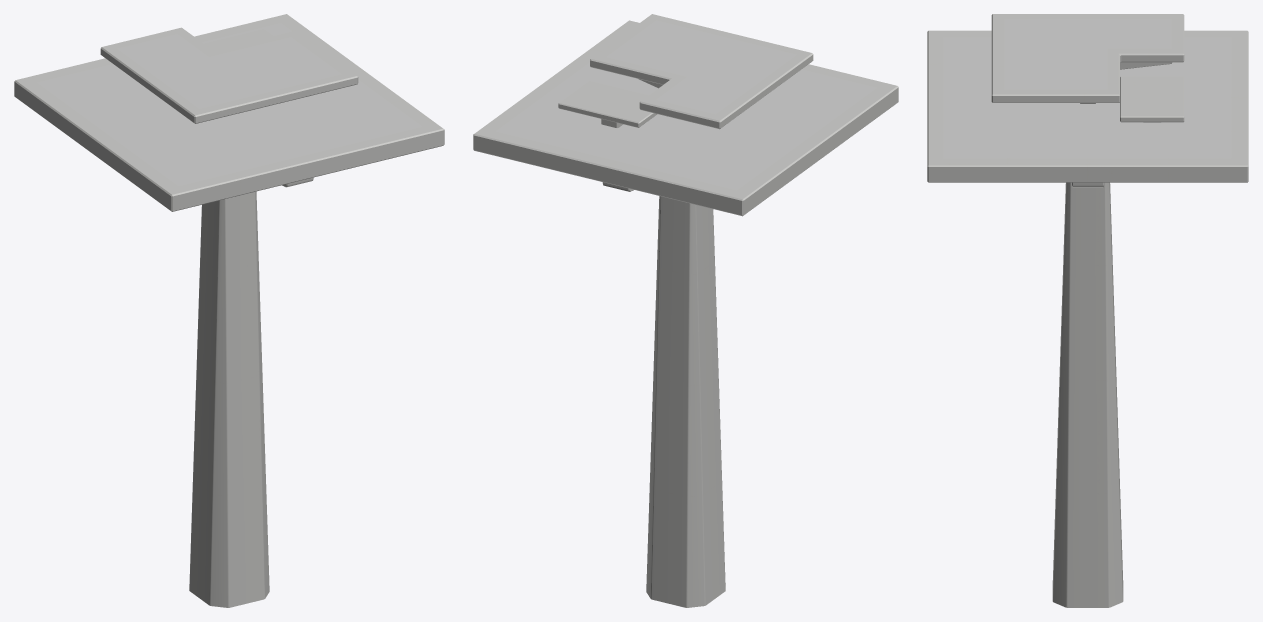
Rendered from PlatformStack1.fbx.
3 renders of one model, left to right at view 1: azimuth 30°, elevation 25°; view 2: azimuth 150°, elevation 25°; view 3: azimuth 270°, elevation 25°, orthographic. The views are drawn at different scales.
Visible parts, largest first — view 1: PlatformStack1, PlatformSmall, StepSmall; view 2: PlatformStack1, PlatformSmall, StepSmall; view 3: PlatformStack1, PlatformSmall, StepSmall.
Part boxes in pixels (x1,y1,x2,y2): PlatformStack1: (14, 14, 444, 607); PlatformSmall: (100, 27, 358, 123); StepSmall: (204, 29, 272, 50); PlatformStack1: (473, 20, 898, 607); PlatformSmall: (590, 14, 813, 129); StepSmall: (558, 81, 657, 127); PlatformStack1: (927, 30, 1248, 607); PlatformSmall: (991, 14, 1184, 103); StepSmall: (1120, 76, 1184, 122).
Bounding box in the file's own units: 500 × 925 × 500.
